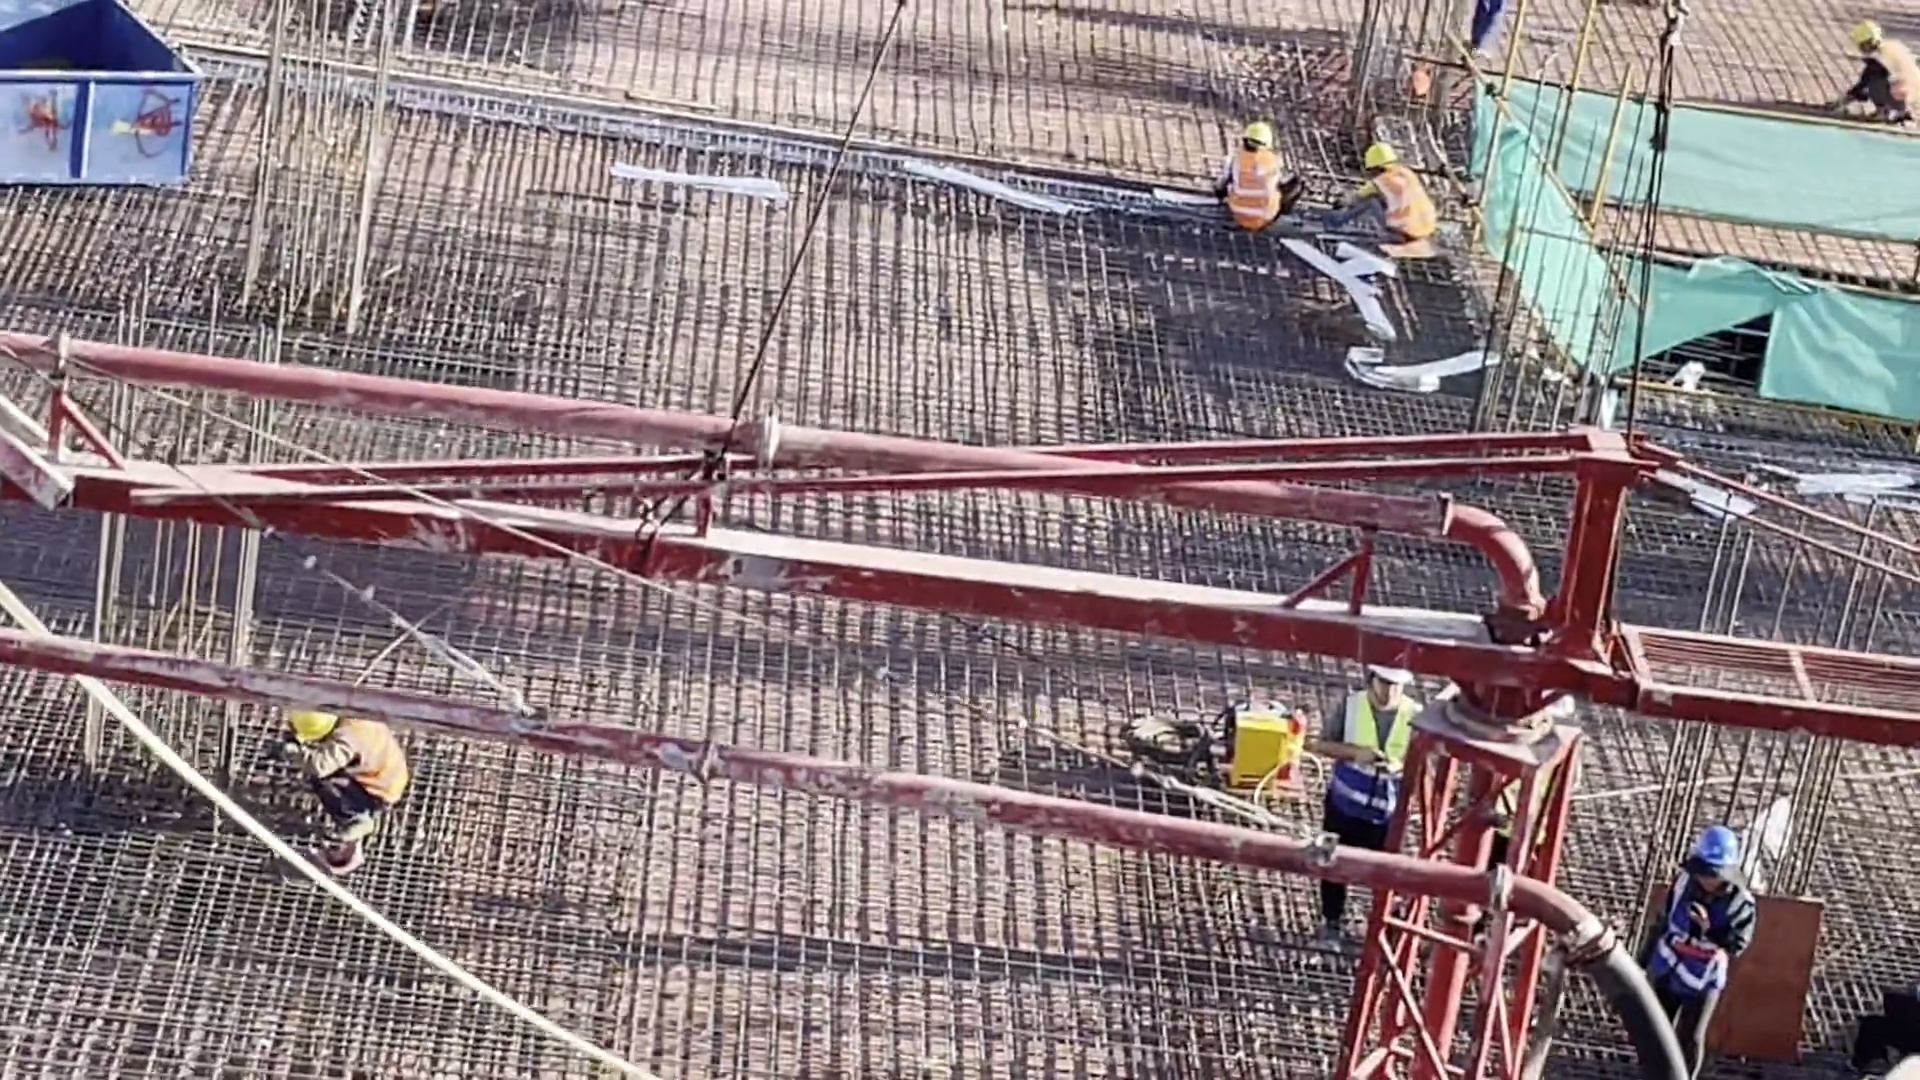helmet: (1686, 826, 1739, 875), (284, 703, 338, 736), (1366, 657, 1412, 684), (1240, 118, 1280, 145), (1358, 140, 1398, 164), (1855, 22, 1881, 44)
hopper: (1, 13, 200, 187)
person: (1634, 821, 1764, 1080), (1319, 648, 1425, 948), (262, 708, 413, 872), (1323, 137, 1445, 264), (1207, 120, 1307, 245), (1831, 18, 1920, 136)
vest: (1674, 876, 1748, 1007), (1344, 705, 1408, 820), (330, 733, 405, 811), (1371, 175, 1436, 241), (1232, 152, 1285, 222), (1878, 51, 1920, 105)
